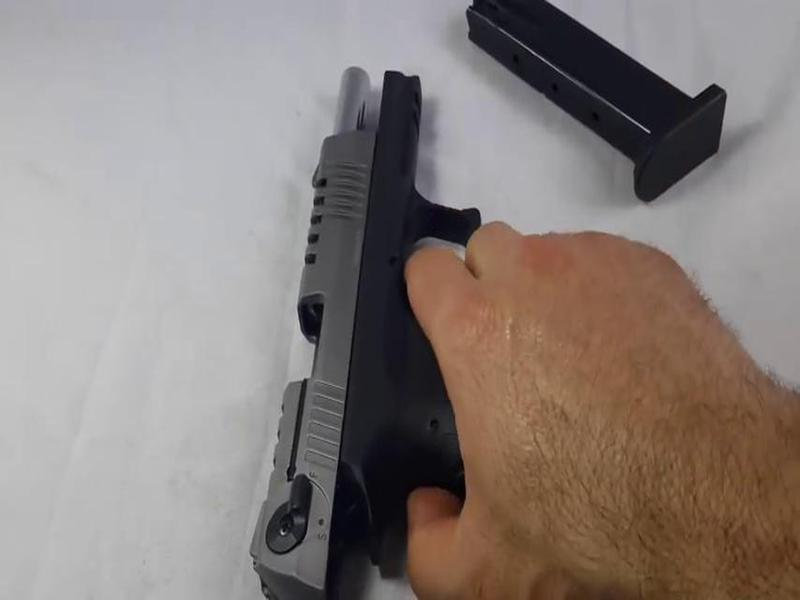Pistola: (244, 49, 507, 578)
